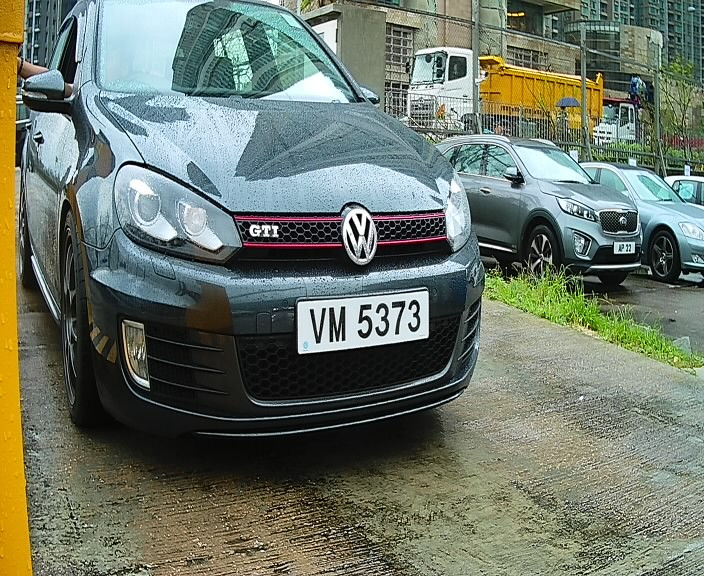Car: (42, 1, 511, 478)
License Plate: (292, 286, 436, 363)
